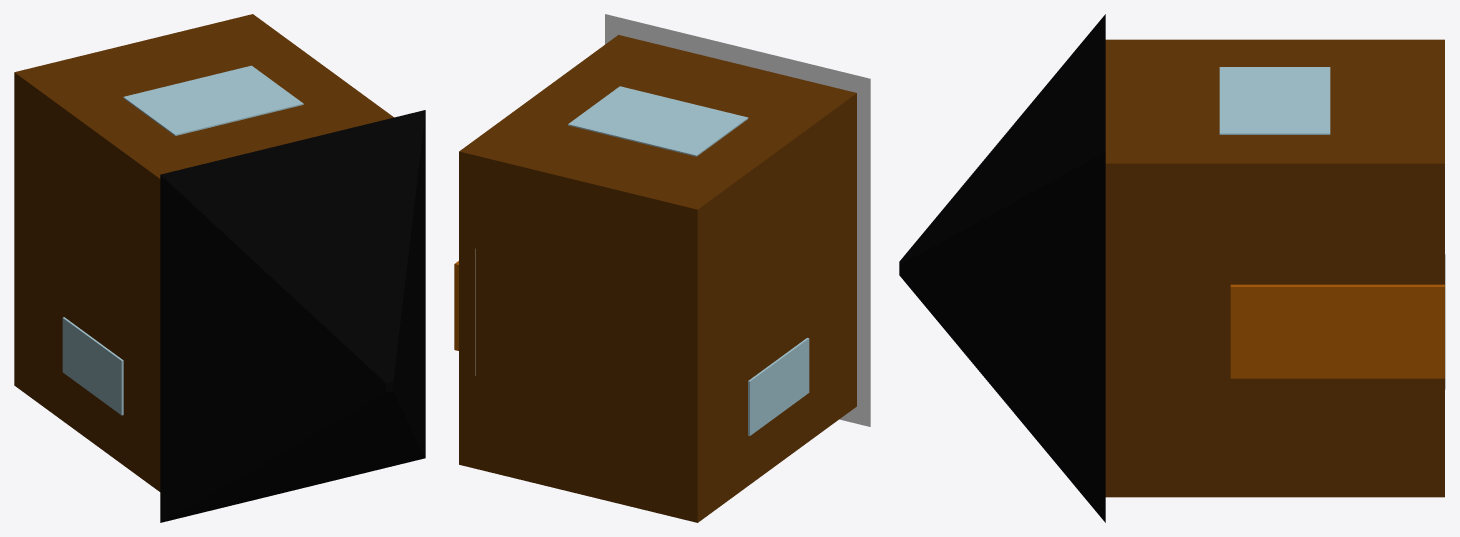
Rendered from Дом1Origin.fbx.
3 views of the same model, side by side, from view 1: azimuth 30°, elevation 25°; view 2: azimuth 150°, elevation 25°; view 3: azimuth 270°, elevation 25° (orthographic). The views are drawn at different scales.
Parts seen in each view (by area): view 1: Дом1; view 2: Дом1; view 3: Дом1.
Part boxes in pixels (x1,y1,x2,y2): Дом1: [14, 14, 425, 522]; Дом1: [454, 14, 870, 522]; Дом1: [899, 14, 1445, 522].
Size of the model in its own units: 3.92 by 4.92 by 6.57.
